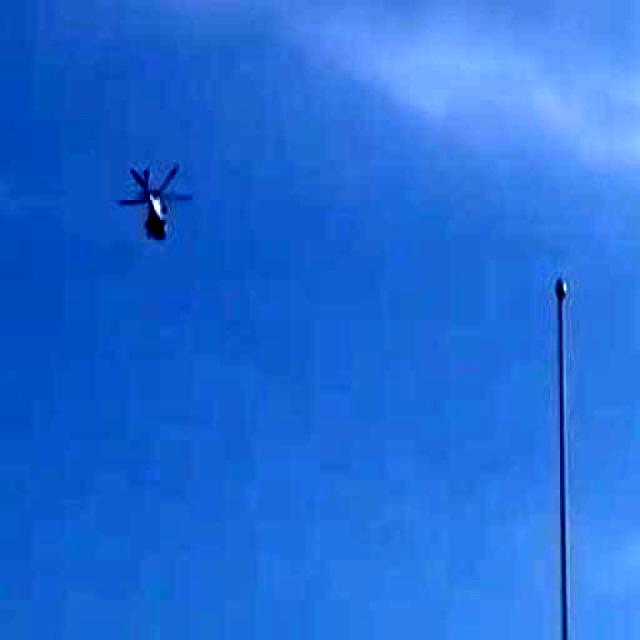drone: (85, 111, 225, 278)
